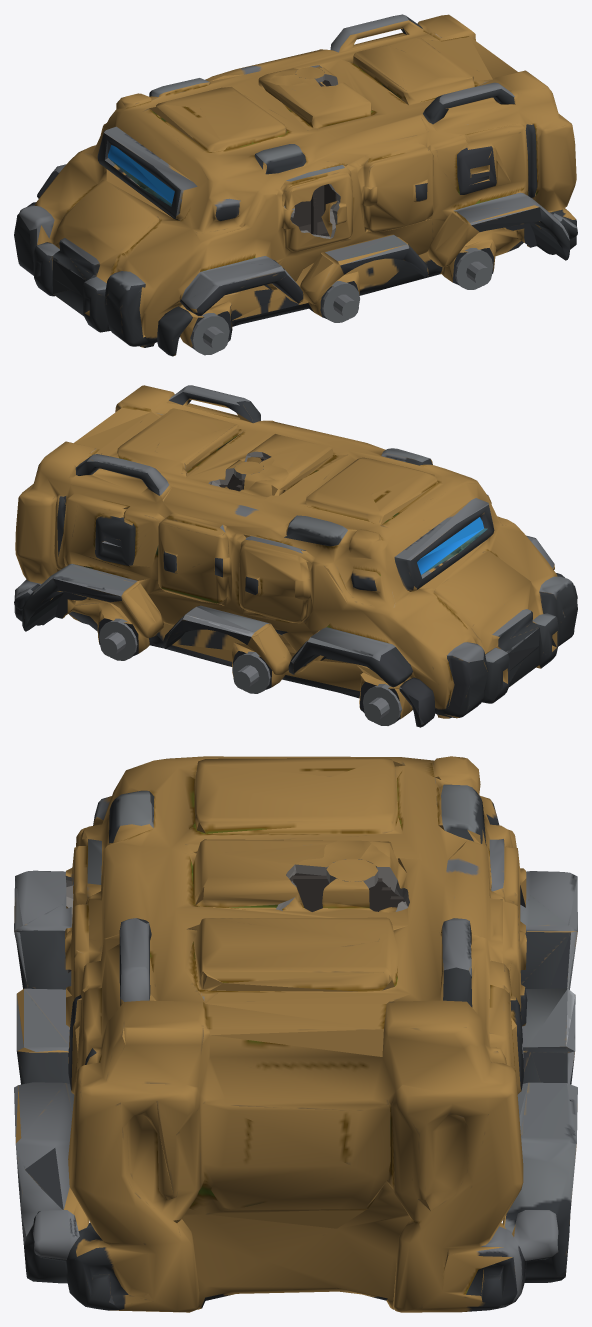
Rendered from OZ_APC_Wreck_V1.glb.
3 renders of one model, top to bottom at view 1: azimuth 30°, elevation 25°; view 2: azimuth 150°, elevation 25°; view 3: azimuth 270°, elevation 25°, orthographic. The views are drawn at different scales.
Parts seen in each view (by area): view 1: APC_Body_Wreck_V1; view 2: APC_Body_Wreck_V1; view 3: APC_Body_Wreck_V1, APC_Plate_V1_c, APC_Plate_V1_b, APC_Plate_V1_a, APC_Plate_V1_d.
Part boxes in pixels (x1=…): APC_Body_Wreck_V1: x1=14, y1=14, x2=577, y2=356; APC_Body_Wreck_V1: x1=14, y1=385, x2=577, y2=727; APC_Body_Wreck_V1: x1=14, y1=756, x2=577, y2=1312; APC_Plate_V1_c: x1=312, y1=878, x2=373, y2=912; APC_Plate_V1_b: x1=295, y1=840, x2=371, y2=875; APC_Plate_V1_a: x1=326, y1=859, x2=378, y2=888; APC_Plate_V1_d: x1=360, y1=843, x2=397, y2=892.
Bounding box in the file's own units: 1.9 × 0.8045 × 1.19.
3 materials, 1 textured.
